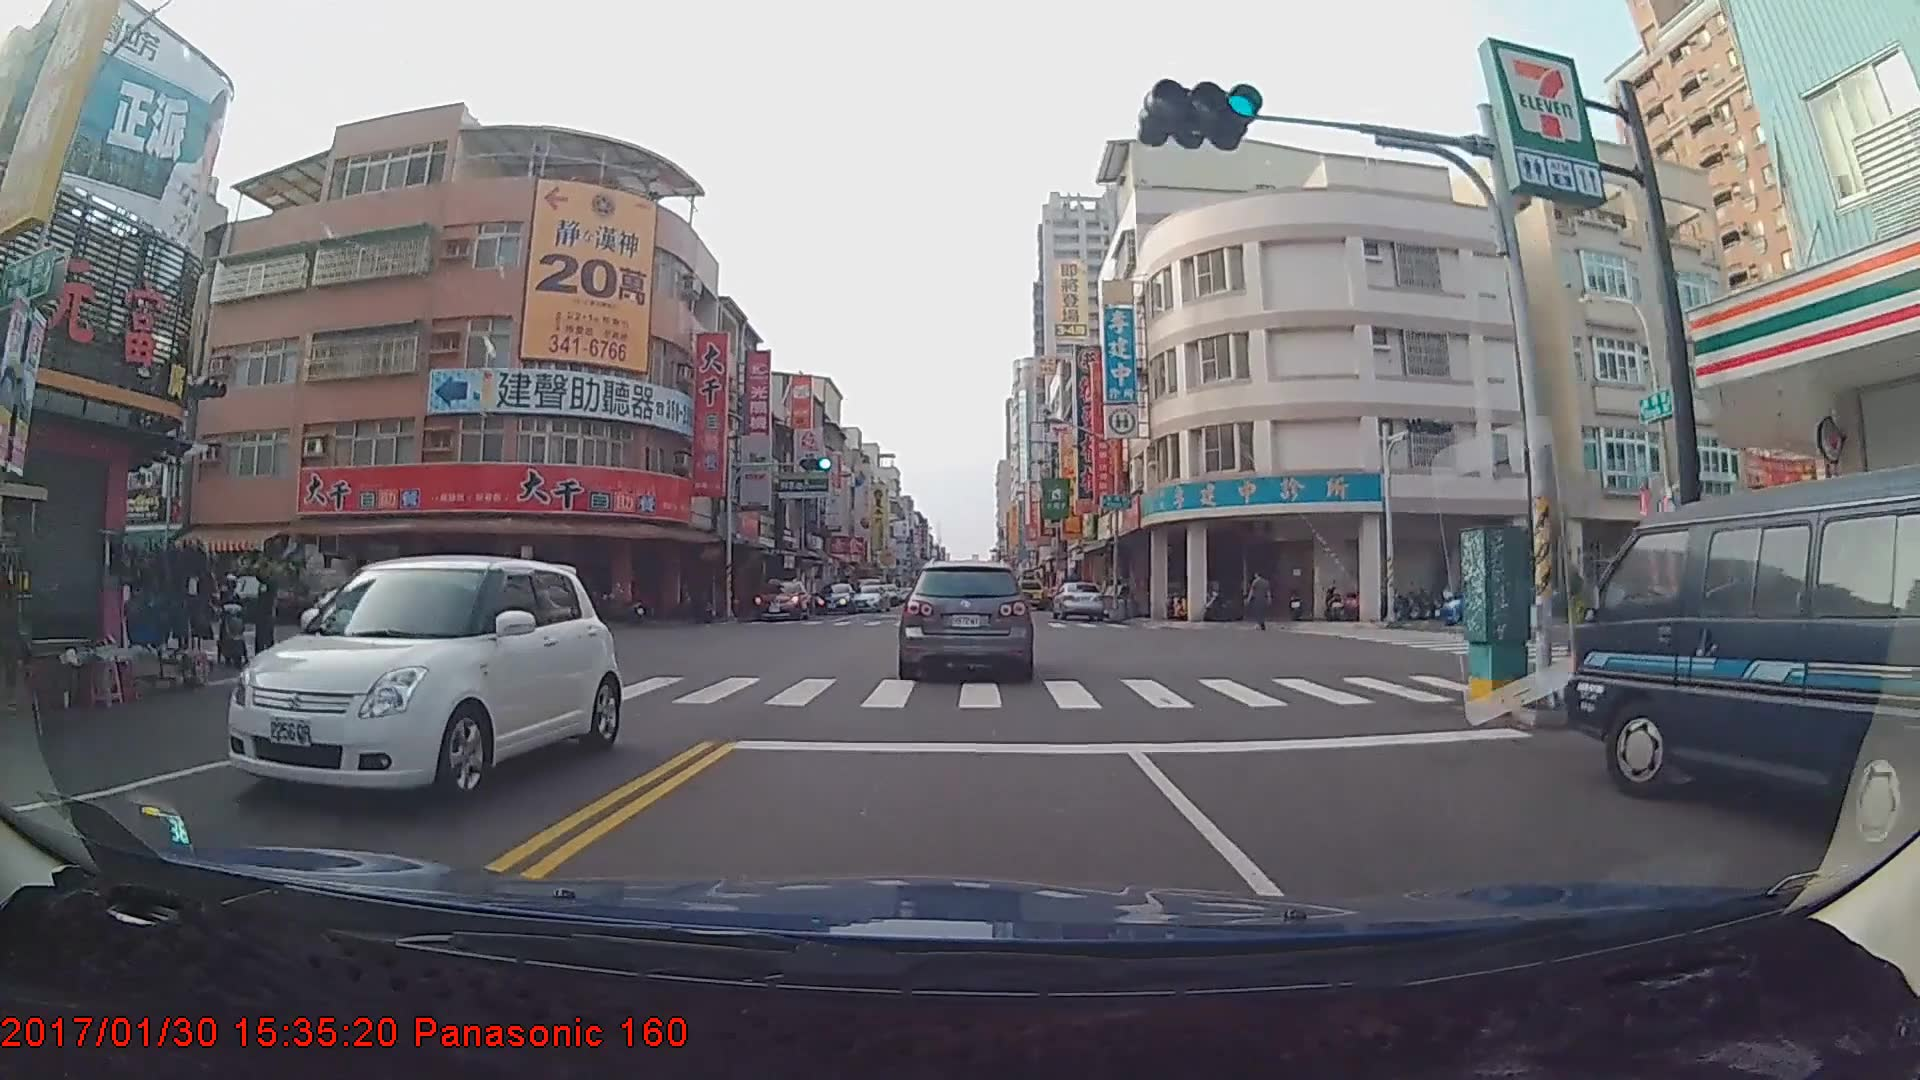pedestrian: (252, 575, 277, 670), (1247, 571, 1274, 635)
rider: (210, 564, 251, 672)
vehicle: (1560, 468, 1920, 864), (222, 544, 626, 810), (897, 562, 1035, 682), (1433, 577, 1564, 630), (756, 576, 809, 621), (1051, 579, 1105, 621), (813, 582, 856, 614), (847, 584, 889, 613), (1009, 581, 1045, 616)
